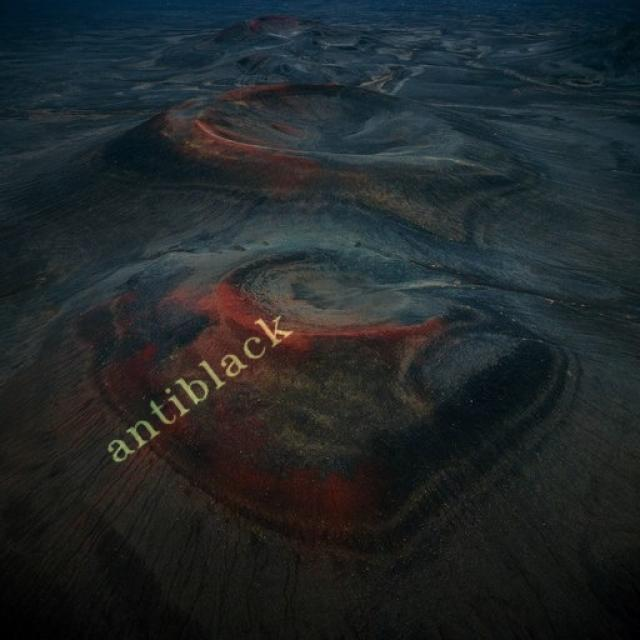watermark: (104, 298, 293, 472)
